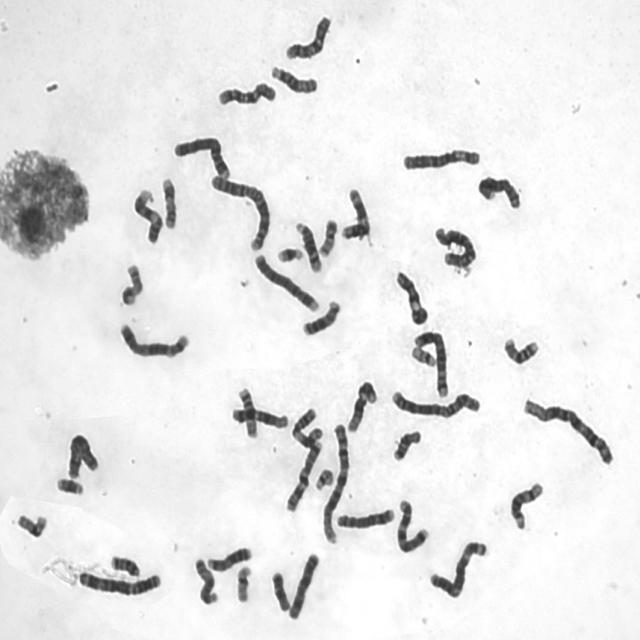A1: (518, 392, 616, 467), (318, 418, 352, 545)
A2: (206, 171, 272, 253), (387, 384, 482, 421)
A3: (426, 536, 490, 601), (74, 566, 162, 598)
B4: (251, 249, 321, 314), (170, 131, 232, 181)
B5: (116, 319, 192, 360), (411, 326, 450, 400)
C10: (282, 11, 334, 61), (214, 78, 278, 108)
C11: (338, 183, 372, 241), (289, 404, 325, 450)
C12: (344, 376, 380, 434), (228, 403, 290, 430)
C6: (399, 144, 482, 173), (431, 222, 478, 269)
C7: (282, 435, 324, 514), (393, 495, 431, 554)
C8: (474, 170, 522, 210), (334, 503, 396, 531)
C9: (392, 267, 430, 327), (129, 184, 164, 246)
D13: (299, 296, 342, 337), (204, 543, 253, 573)
D14: (506, 477, 545, 532), (291, 217, 324, 274)
D15: (268, 61, 320, 96), (192, 554, 219, 606)
E16: (234, 383, 260, 439), (500, 332, 541, 367)
E17: (118, 259, 145, 307), (158, 174, 179, 231)
E18: (390, 426, 423, 462), (268, 567, 291, 613)
F19: (233, 562, 253, 604), (16, 514, 48, 538)
F20: (316, 214, 340, 258), (110, 555, 142, 578)
G21: (52, 473, 86, 497), (274, 242, 305, 264)
G22: (408, 342, 438, 368), (312, 464, 336, 493)
X: (285, 549, 321, 621), (63, 429, 101, 480)
